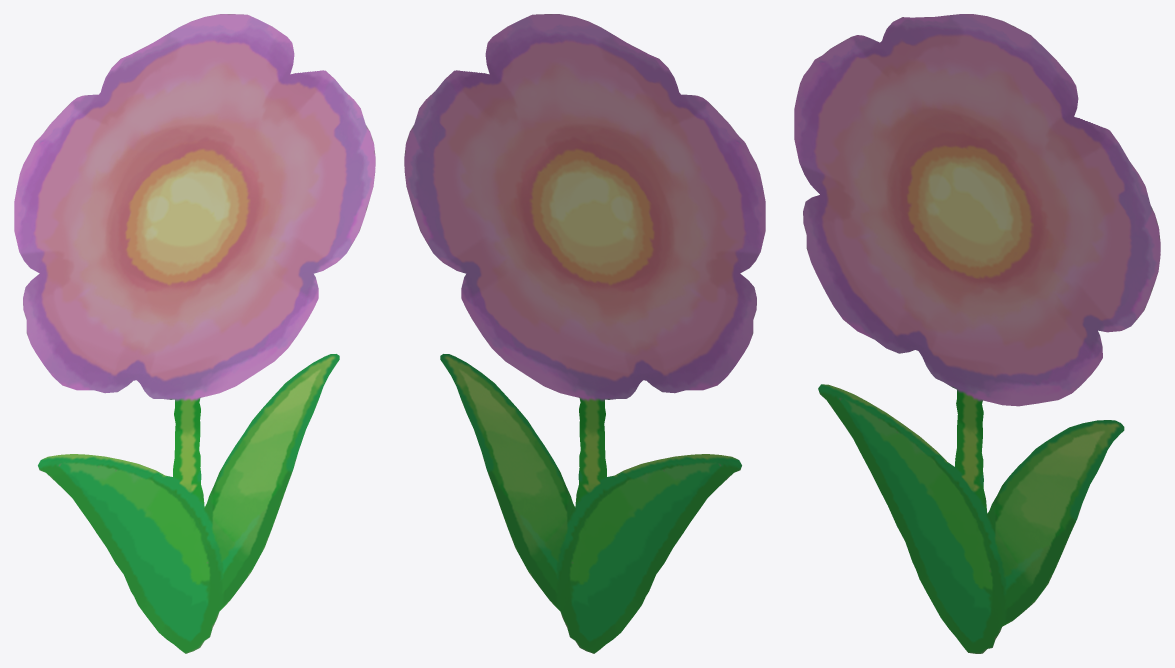
The model's file is Flower_Pink.obj.
3 views of the same model, side by side, from view 1: azimuth 30°, elevation 25°; view 2: azimuth 150°, elevation 25°; view 3: azimuth 330°, elevation 25° (orthographic).
Visible parts, largest first — view 1: 平面; view 2: 平面; view 3: 平面.
Part boxes in pixels (box(x1,y1,x2,y2)): 平面: box(14, 14, 375, 653); 平面: box(404, 14, 765, 653); 平面: box(794, 14, 1160, 653).
Size of the model in its own units: 0.6144 by 1.03 by 0.
Materials: 1 (1 with a texture image).
